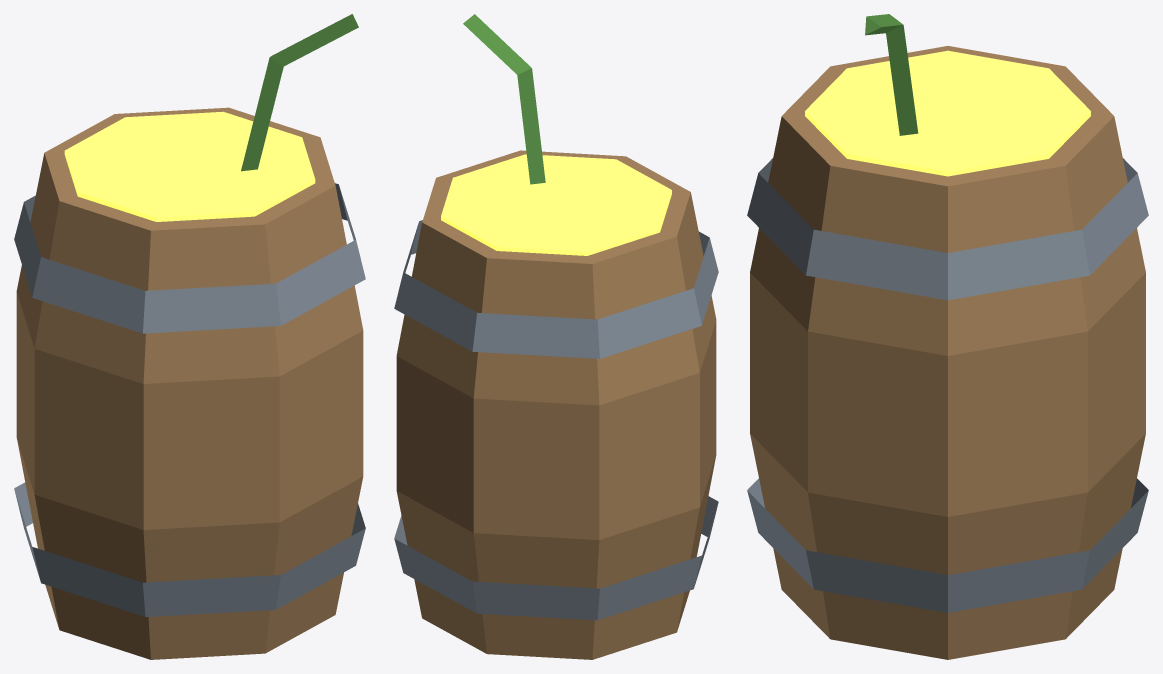
The model's file is Prop_Barrel_Juice.fbx.
3 views of the same model, side by side, from view 1: azimuth 30°, elevation 25°; view 2: azimuth 150°, elevation 25°; view 3: azimuth 270°, elevation 25° (orthographic). The views are drawn at different scales.
Visible parts, largest first — view 1: Prop_Barrel_Juice; view 2: Prop_Barrel_Juice; view 3: Prop_Barrel_Juice.
Part boxes in pixels (x1,y1,x2,y2): Prop_Barrel_Juice: (14, 14, 365, 659); Prop_Barrel_Juice: (394, 14, 718, 659); Prop_Barrel_Juice: (747, 14, 1148, 659).
Size of the model in its own units: 0.7305 by 1.29 by 0.7305.
